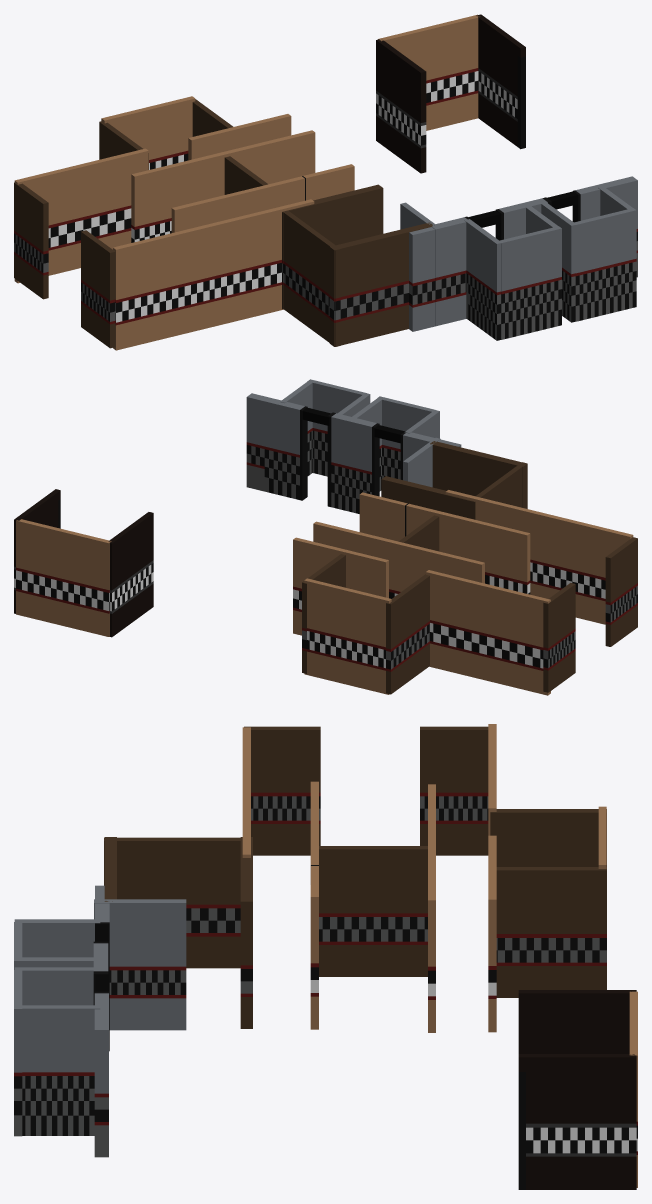
The model's file is ENVIRONMENT_UMUM_WALL.fbx.
The picture shows the model from 3 angles, top to bottom: view 1: azimuth 30°, elevation 25°; view 2: azimuth 150°, elevation 25°; view 3: azimuth 270°, elevation 25°; orthographic projection. The views are drawn at different scales.
Visible parts, largest first — view 1: Cube.025, Cube.187, Cube.181, Cube.024, Cube.012, Cube.180, Cube.184, Cube.183, Cube.170, Cube.013, Cube.014, Cube.189 (+19 smaller); view 2: Cube.187, Cube.012, Cube.213, Cube.025, Cube.173, Cube.169, Cube.013, Cube.026, Cube.212, Cube.188, Cube.181, Cube.192 (+18 smaller); view 3: Cube.014, Cube.029, Cube.211, Cube.183, Cube.168, Cube.178, Cube.192, Cube.191, Cube.013, Cube.212, Cube.185, Cube.179 (+11 smaller).
Part boxes in pixels (left/top/right/bottom): Cube.025: left=113, top=223, right=215, bottom=350; Cube.187: left=14, top=148, right=148, bottom=283; Cube.181: left=329, top=222, right=434, bottom=346; Cube.024: left=213, top=199, right=314, bottom=326; Cube.012: left=378, top=14, right=479, bottom=130; Cube.180: left=573, top=208, right=636, bottom=321; Cube.184: left=498, top=226, right=561, bottom=339; Cube.183: left=283, top=210, right=340, bottom=346; Cube.170: left=409, top=216, right=472, bottom=331; Cube.013: left=376, top=39, right=426, bottom=173; Cube.014: left=476, top=14, right=525, bottom=149; Cube.189: left=131, top=154, right=215, bottom=242; Cube.187: left=426, top=570, right=550, bottom=695; Cube.012: left=16, top=519, right=111, bottom=636; Cube.213: left=304, top=578, right=391, bottom=694; Cube.025: left=537, top=512, right=633, bottom=624; Cube.173: left=246, top=393, right=307, bottom=500; Cube.169: left=327, top=412, right=379, bottom=513; Cube.013: left=108, top=512, right=153, bottom=637; Cube.026: left=451, top=515, right=530, bottom=594; Cube.212: left=386, top=574, right=429, bottom=694; Cube.188: left=293, top=537, right=388, bottom=635; Cube.181: left=430, top=441, right=527, bottom=508; Cube.192: left=605, top=537, right=637, bottom=646; Cube.014: left=518, top=1054, right=636, bottom=1189; Cube.029: left=319, top=846, right=427, bottom=976; Cube.211: left=496, top=867, right=606, bottom=997; Cube.183: left=104, top=837, right=242, bottom=968; Cube.168: left=94, top=899, right=186, bottom=1030; Cube.178: left=22, top=1005, right=100, bottom=1135; Cube.192: left=244, top=726, right=320, bottom=855; Cube.191: left=420, top=726, right=488, bottom=855; Cube.013: left=518, top=990, right=636, bottom=1053; Cube.212: left=490, top=809, right=606, bottom=866; Cube.185: left=14, top=919, right=100, bottom=957; Cube.179: left=14, top=967, right=100, bottom=1005.
Bounding box in the file's own units: 3623 × 672 × 2861.
